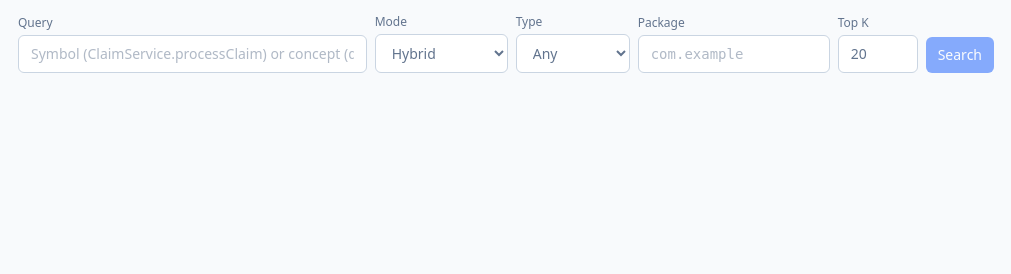
Scenario: SearchPage › sends filters and renders hits
Type "A" into the field named "Search query". click: (192, 54)
box: [18,35,367,73]
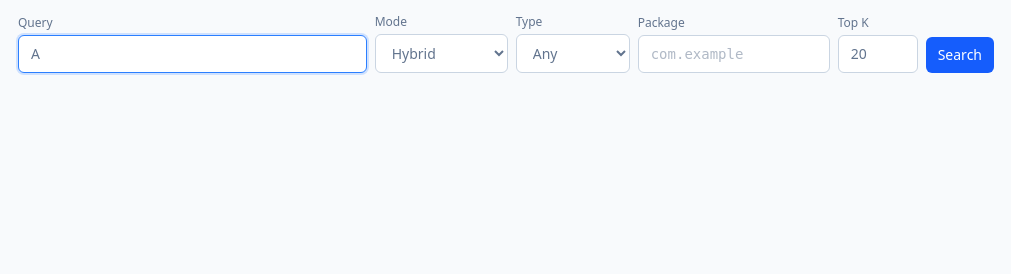
Select "Exact symbol" in the dropdown labelled "Mode". click: (441, 54)
box: [375,34,508,73]
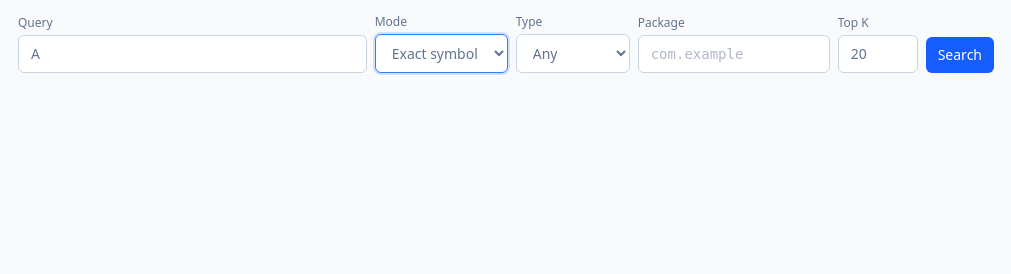
Select "class" in the dropdown named "Entity type". click: (573, 54)
box: [516,34,630,73]
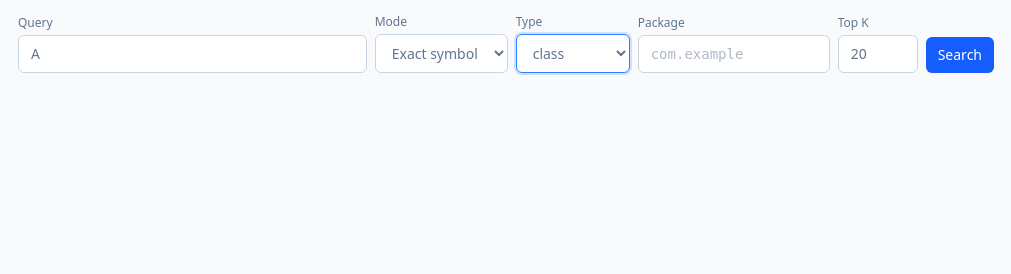
Type "demo" into the field labelled "Package". click: (734, 54)
box: [638,35,830,73]
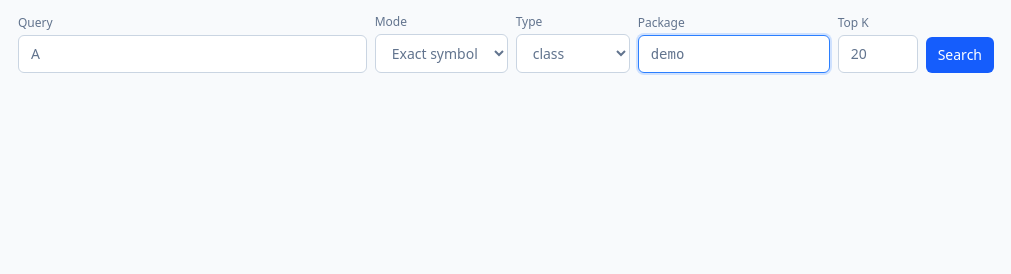
Click the button "Search". click: (960, 55)
box: [926,37,994,73]
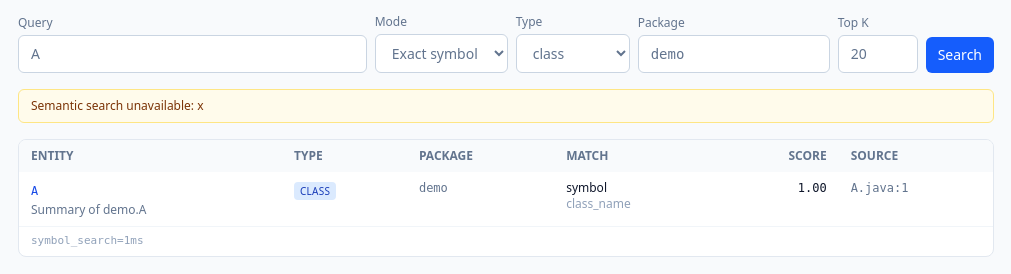
Expected: the button "A" is shown, [31,183,38,200]
Expected: the text "class_name" is shown, [566,195,631,212]
Expected: the text "Semantic search unavailable: x" is shown, [18,89,994,123]
